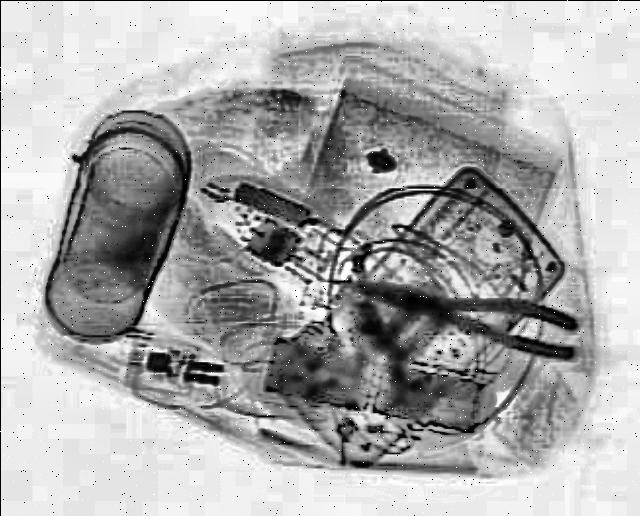Pliers: (341, 256, 587, 360)
